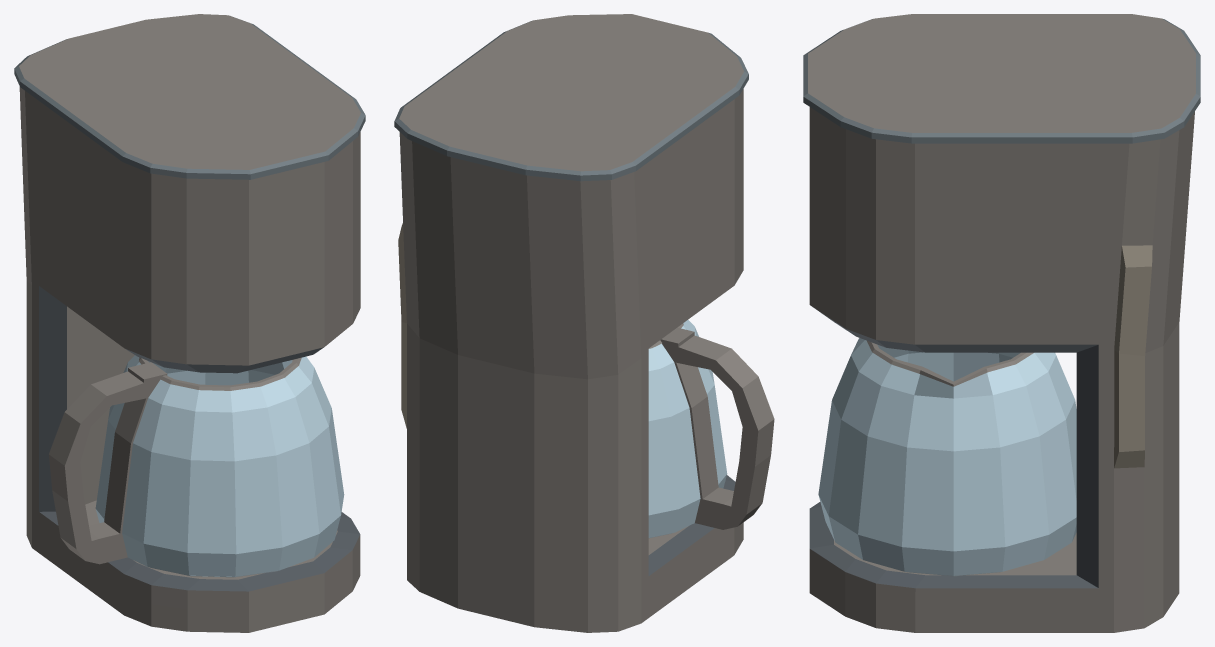
File: coffemaker_02_A.gltf
3 renders of one model, left to right at view 1: azimuth 30°, elevation 25°; view 2: azimuth 150°, elevation 25°; view 3: azimuth 270°, elevation 25°, orthographic. The views are drawn at different scales.
Visible parts, largest first — view 1: coffemaker_02_A, Kittle_01_A; view 2: coffemaker_02_A, Kittle_01_A; view 3: coffemaker_02_A, Kittle_01_A.
Boxes of the visible parts, x1,y1,x2,y2 form: coffemaker_02_A: [14, 14, 365, 632]; Kittle_01_A: [48, 355, 344, 577]; coffemaker_02_A: [394, 14, 748, 632]; Kittle_01_A: [648, 320, 774, 538]; coffemaker_02_A: [803, 14, 1200, 632]; Kittle_01_A: [818, 338, 1076, 576].
Size of the model in its own units: 0.22 by 0.3466 by 0.2492.
1 material, 1 textured.
